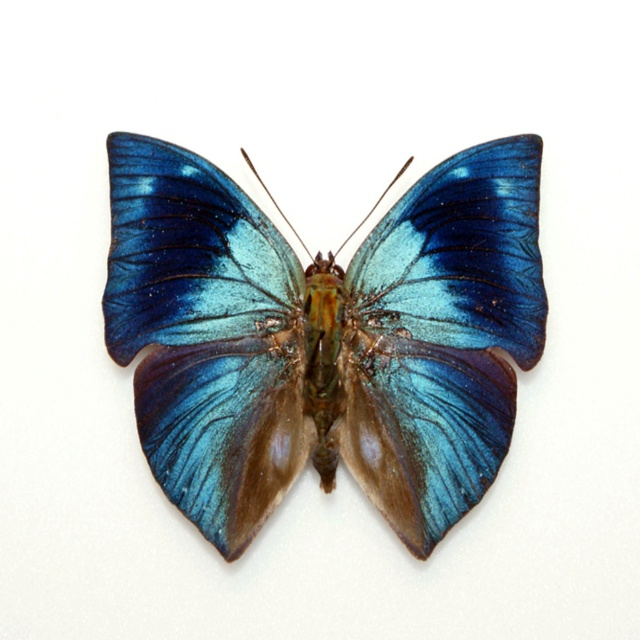Butterfly: (84, 130, 553, 578)
